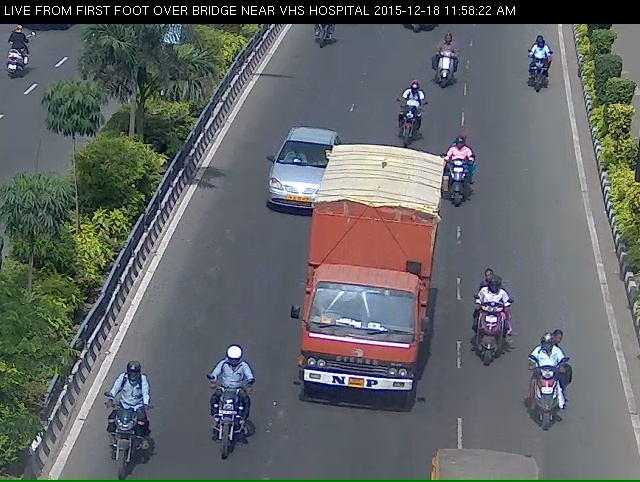Bus: (309, 165, 433, 429)
Car: (261, 144, 320, 230)
Person: (197, 382, 250, 480), (533, 347, 574, 459), (462, 286, 509, 380), (80, 405, 137, 477), (393, 88, 428, 162), (520, 30, 553, 106), (442, 142, 470, 222), (305, 22, 334, 67), (432, 40, 454, 98)
